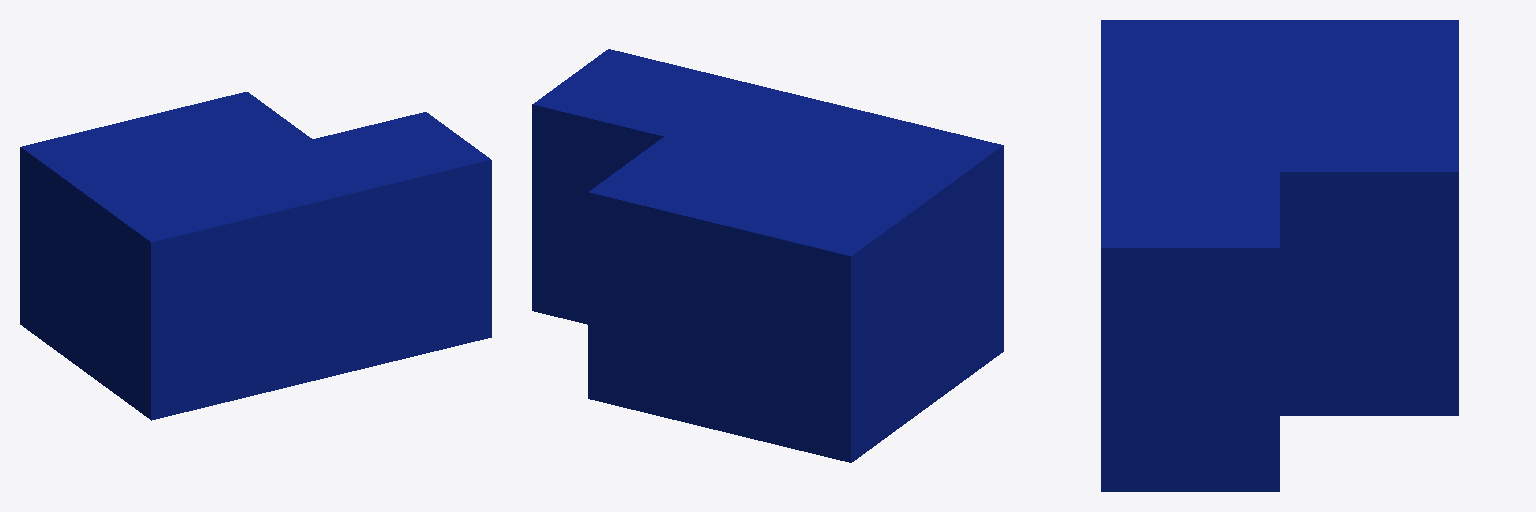
robot.urdf — block:
<robot name="block">
  <link name="block_base_link">
 
    <inertial>
      <origin rpy="0 0 0" xyz="-0.054 0.018 0.015000"/>
      <mass value="0.05"/>
      <inertia ixx="1.226e-05" ixy="-2.88e-06" ixz="0.0" iyy="1.994e-05" iyz="0.0" izz="2.32e-05"/>
    </inertial>
    <collision>
      
      <geometry>
        <mesh filename="8.STL" scale="1 1 1"/>
      </geometry>
    </collision>
    <visual>
 
      <geometry>
        <mesh filename="8.STL" scale="1 1 1"/>
      </geometry>
      <material name="tray_material">
        <color rgba="0.1 0.2 0.6 1"/>
      </material>
    </visual>
  </link>
</robot>

--- Facts derived from the render (not from the file) ---
3 views of the same robot in one strip: view 1: azimuth 30°, elevation 25°; view 2: azimuth 150°, elevation 25°; view 3: azimuth 270°, elevation 25° (orthographic).
Robot: block — 1 links, 0 joints (none); root link block_base_link; default pose: all joints at 0.
Links seen in each view (by area): view 1: block_base_link; view 2: block_base_link; view 3: block_base_link.
Boxes of the visible links, x1,y1,x2,y2 form: block_base_link: (20,92,491,420); block_base_link: (532,49,1003,462); block_base_link: (1101,20,1458,491).
Bounding box of the posed robot: 0.06 × 0.04 × 0.03 m (x, y, z).
Meshes: 1 distinct files referenced, 1 mesh visuals loaded (1 binary STL).